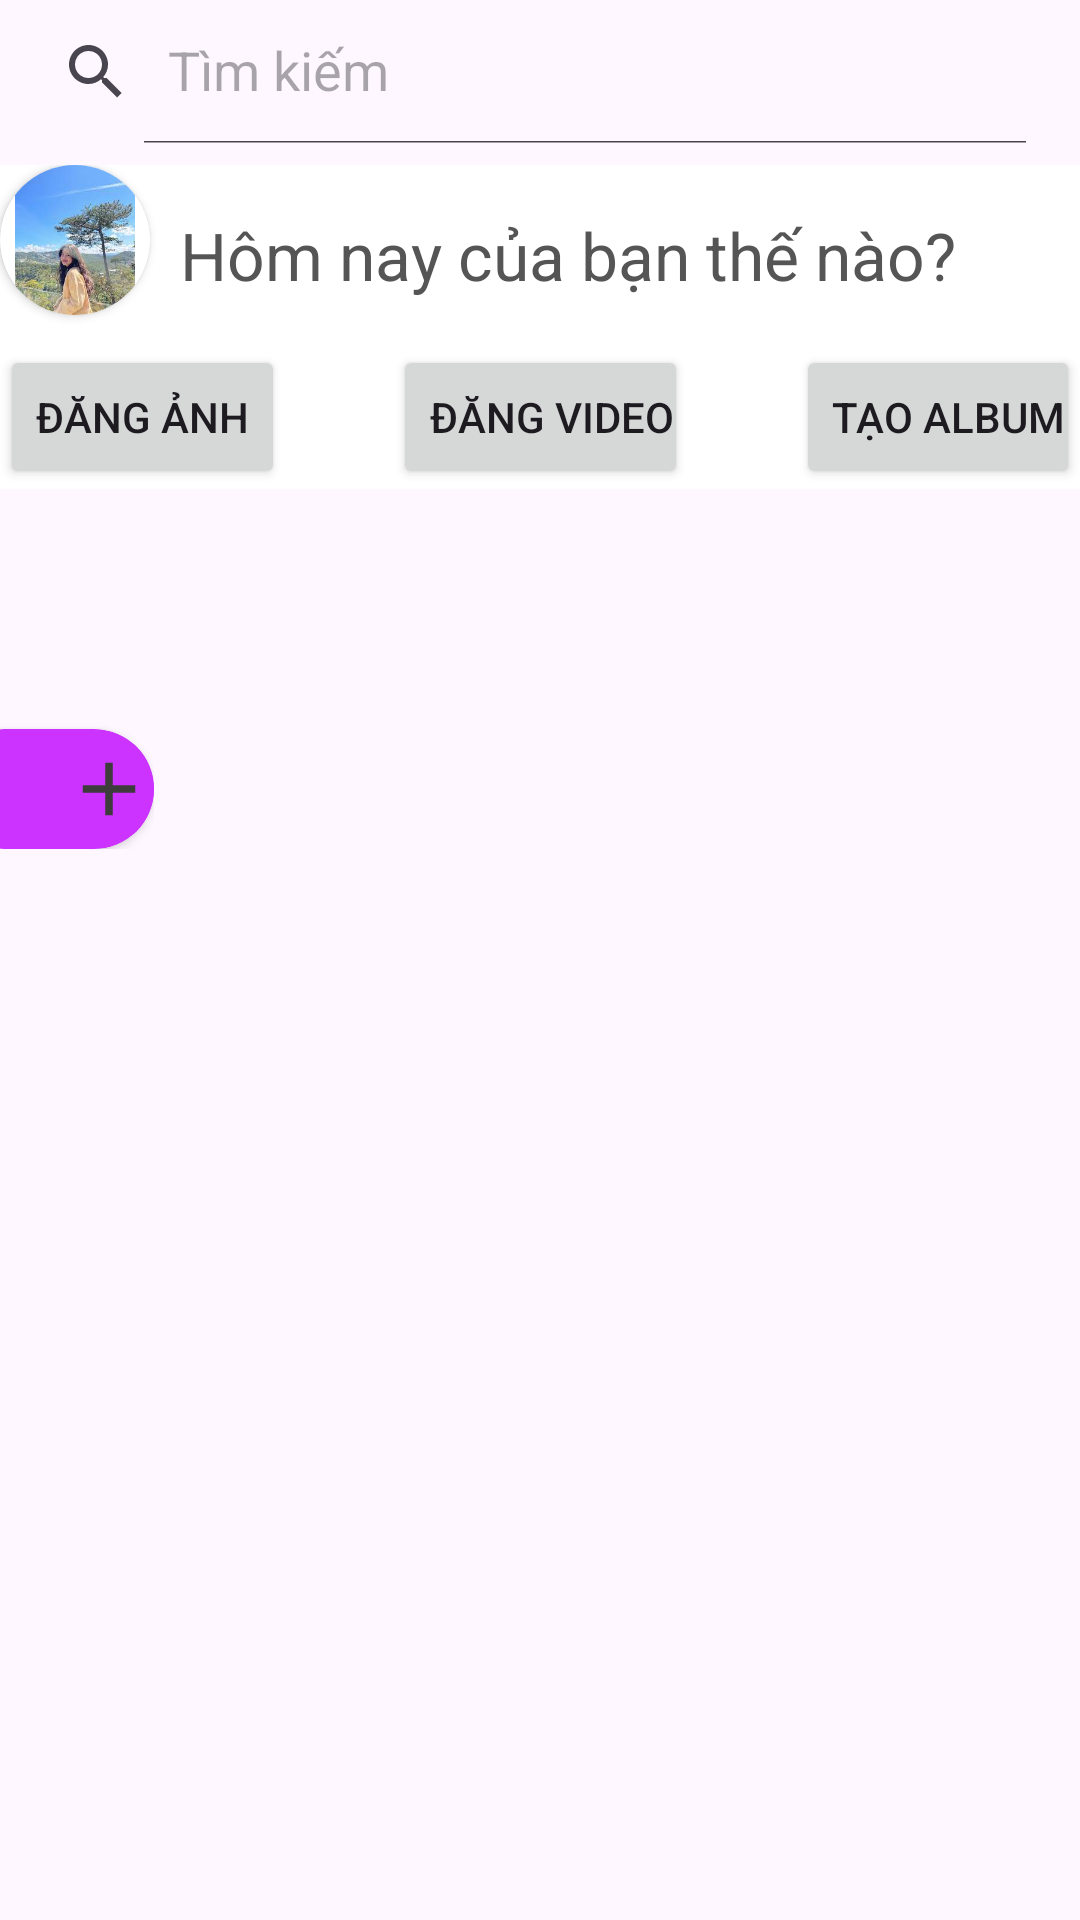

Icons on this 1080*1920 Android screen, each with the point to tap as (x=x, y=y):
add: (x=109, y=789)
